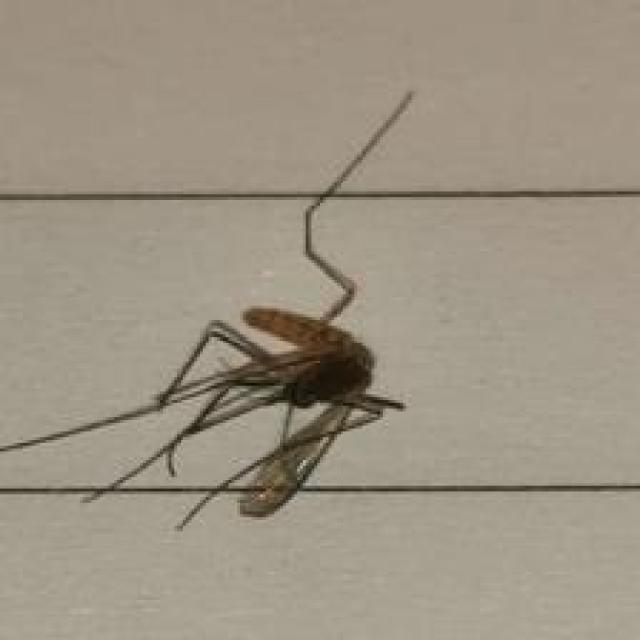Culex: (0, 89, 417, 532)
